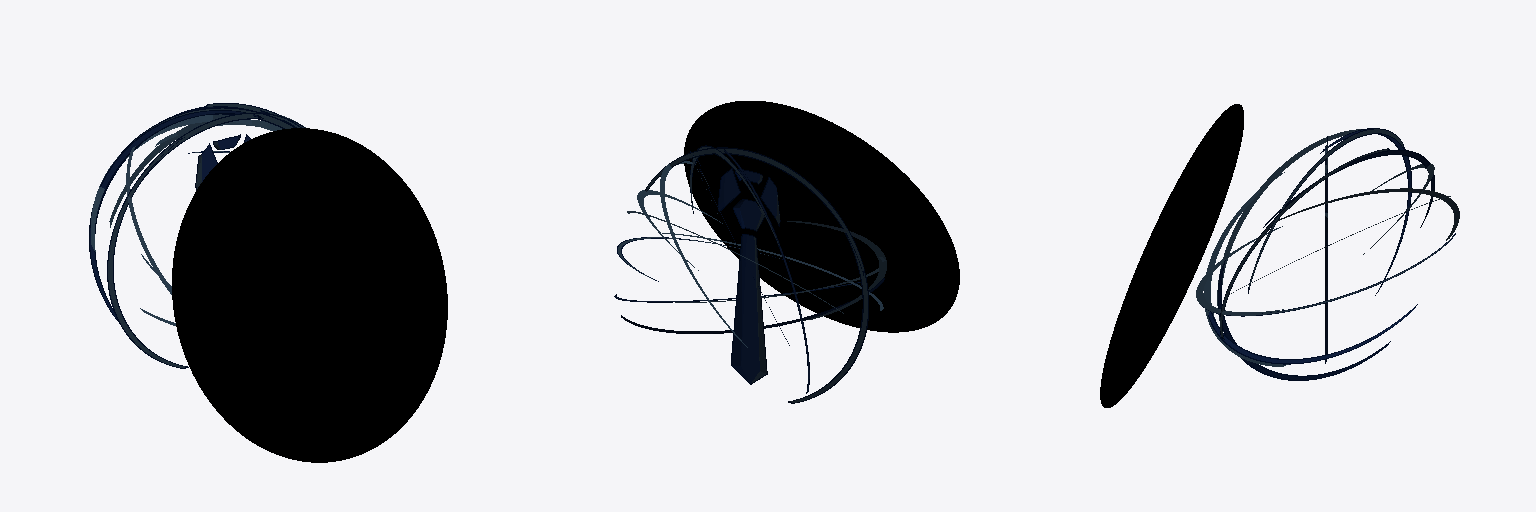
Rendered from mycroft.obj.
The picture shows the model from 3 angles: view 1: azimuth 30°, elevation 25°; view 2: azimuth 150°, elevation 25°; view 3: azimuth 270°, elevation 25°; orthographic projection.
Visible parts, largest first — view 1: Circle.002_Circle.006, Circle.003_Circle.007, Plane.001, Circle.010_Circle.029, Circle.020_Circle.042, Circle.019_Circle.041, Circle.018_Circle.040, Circle.012_Circle.031; view 2: Circle.002_Circle.006, Plane.001, Circle.003_Circle.007, Circle.010_Circle.029, Circle.018_Circle.040, Circle.019_Circle.041; view 3: Circle.002_Circle.006, Circle.003_Circle.007, Circle.018_Circle.040, Circle.017_Circle.039, Circle.012_Circle.031, Circle.011_Circle.030, Circle.019_Circle.041, Circle.016_Circle.038, Plane.001.
Boxes of the visible parts, box(x1,y1,x2,y2) form: Circle.002_Circle.006: box(172, 128, 447, 462); Circle.003_Circle.007: box(89, 107, 296, 368); Plane.001: box(195, 134, 250, 190); Circle.010_Circle.029: box(118, 113, 304, 214); Circle.020_Circle.042: box(91, 115, 273, 251); Circle.019_Circle.041: box(109, 114, 305, 227); Circle.018_Circle.040: box(126, 146, 171, 294); Circle.012_Circle.031: box(121, 107, 295, 152); Circle.002_Circle.006: box(684, 101, 959, 332); Plane.001: box(718, 168, 780, 384); Circle.003_Circle.007: box(614, 149, 884, 403); Circle.010_Circle.029: box(645, 147, 864, 275); Circle.018_Circle.040: box(787, 221, 886, 320); Circle.019_Circle.041: box(660, 161, 747, 347); Circle.002_Circle.006: box(1100, 104, 1243, 407); Circle.003_Circle.007: box(1202, 128, 1455, 380); Circle.018_Circle.040: box(1217, 129, 1360, 331); Circle.017_Circle.039: box(1204, 172, 1288, 366); Circle.012_Circle.031: box(1248, 128, 1403, 293); Circle.011_Circle.030: box(1220, 148, 1389, 339); Circle.019_Circle.041: box(1275, 188, 1459, 240); Circle.016_Circle.038: box(1196, 226, 1283, 314); Plane.001: box(1325, 145, 1327, 363).
Size of the model in its own units: 8.25 by 8.15 by 9.64.